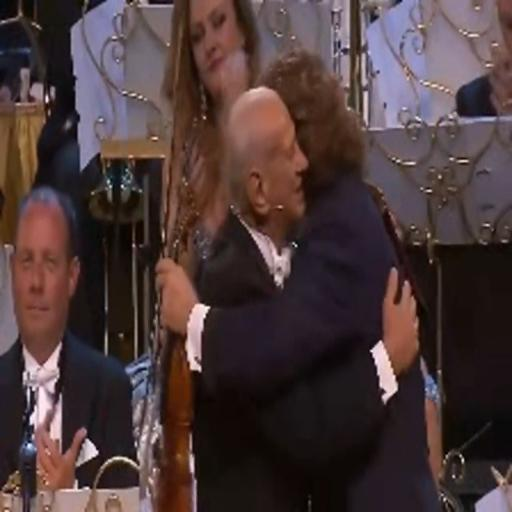nao-violencia: (136, 33, 448, 512)
